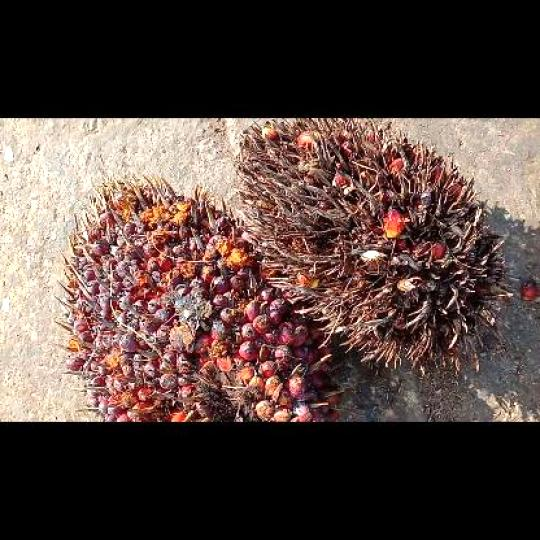masak: (54, 172, 341, 420)
terlalu masak: (234, 118, 516, 370)
